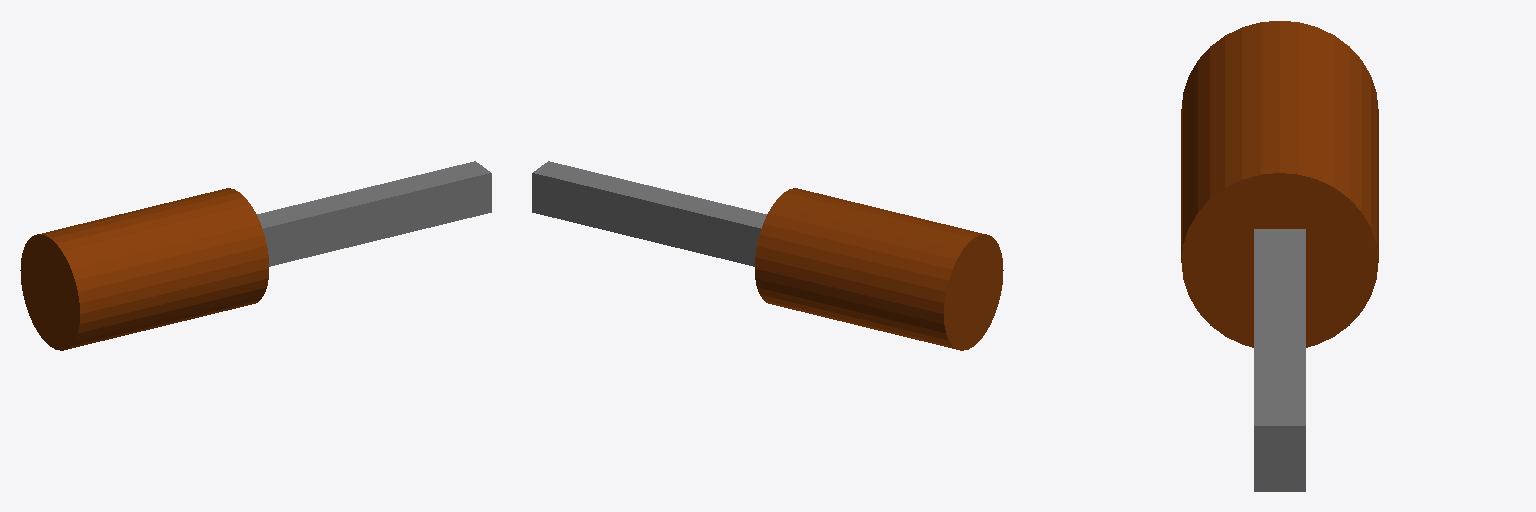
The robot description file, URDF, robot "handle_head":
<?xml version="1.0"?>
<robot name="handle_head">

  <link name="handle_head">
    <!-- Handle -->
    <visual>
              <origin xyz="0 0 0" rpy="0 -1.5707963267948966 0"/>
        <geometry>
          <cylinder length="0.0728315763715292" radius="0.01990408396823311"/>
        </geometry>
        
      <material name="brown">
        <color rgba="0.55 0.27 0.07 1.0"/>
      </material>
    </visual>
    <collision>
              <origin xyz="0 0 0" rpy="0 -1.5707963267948966 0"/>
        <geometry>
          <cylinder length="0.0728315763715292" radius="0.01990408396823311"/>
        </geometry>
        
    </collision>

    <!-- Head -->
    <visual>
              <origin xyz="0.08335520386619233 0 0" rpy="0 0 0"/>
        <geometry>
          <box size="0.09387883136085545 0.010689763445393812 0.014633812135806187"/>
        </geometry>
        
      <material name="gray">
        <color rgba="0.5 0.5 0.5 1.0"/>
      </material>
    </visual>
    <collision>
              <origin xyz="0.08335520386619233 0 0" rpy="0 0 0"/>
        <geometry>
          <box size="0.09387883136085545 0.010689763445393812 0.014633812135806187"/>
        </geometry>
        
    </collision>

    <inertial>
      <origin xyz="0.023027871988735394 0 0" rpy="0 0 0"/>
      <mass value="0.06973106412486245"/>
      <inertia ixx="9.99007966815255e-06" iyy="0.00015871341166752662" izz="0.00015855307478720608" ixy="0" ixz="0" iyz="0"/>
    </inertial>
  </link>

</robot>

--- What the picture shows (computed from the rendered views, not written in the file) ---
3 views of the same robot in one strip: view 1: azimuth 30°, elevation 25°; view 2: azimuth 150°, elevation 25°; view 3: azimuth 270°, elevation 25° (orthographic).
Model handle_head with 1 links and 0 joints (none), rooted at handle_head, posed all joints at 0.
Visible links, largest first — view 1: handle_head; view 2: handle_head; view 3: handle_head.
Link boxes in pixels (x1,y1,x2,y2): handle_head: (20,161,491,350); handle_head: (532,161,1003,350); handle_head: (1181,21,1378,491).
Size in the robot's own frame: 0.1667 by 0.0398 by 0.0398 metres.
Geometry: primitives only (box / cylinder / sphere), no mesh files.
